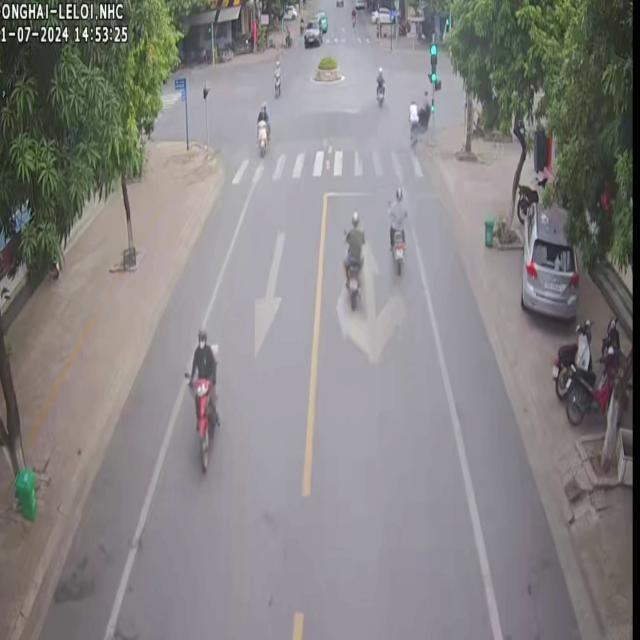car: (519, 200, 577, 318), (302, 18, 320, 46), (312, 9, 327, 31)
green_light: (427, 39, 438, 84)
motobike: (183, 327, 218, 469), (342, 209, 363, 309), (386, 185, 406, 274), (254, 100, 269, 156), (374, 65, 383, 105), (272, 58, 279, 95)
stop_line: (330, 188, 437, 196)
